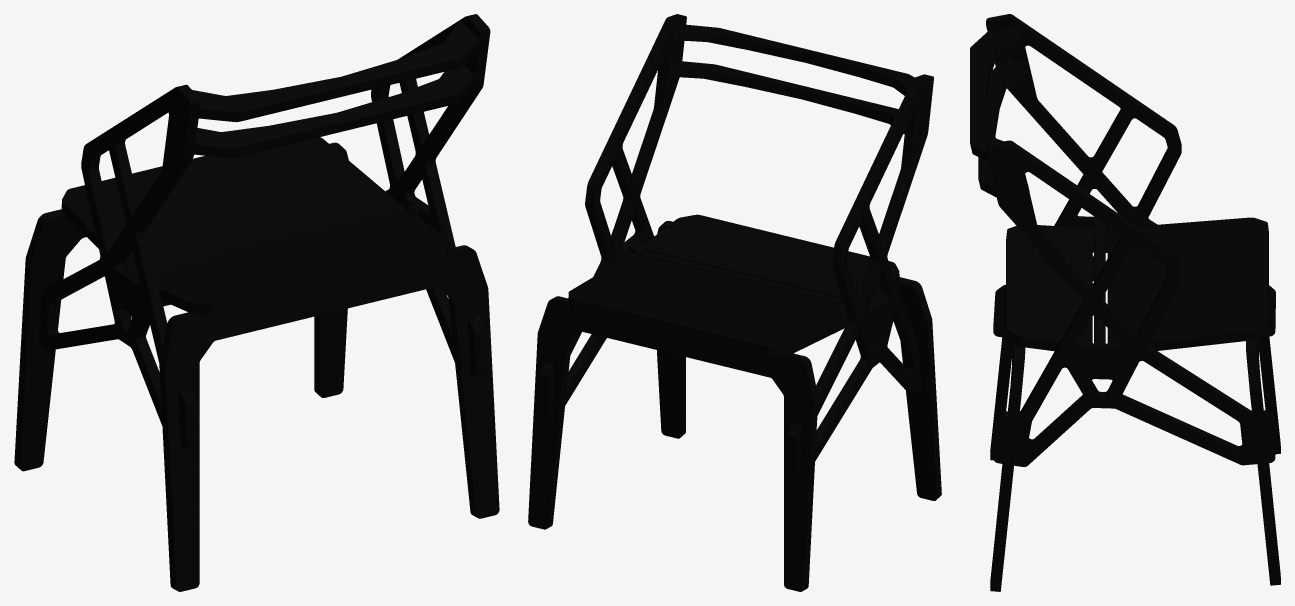
3 views of the same model, side by side, from view 1: azimuth 30°, elevation 25°; view 2: azimuth 150°, elevation 25°; view 3: azimuth 270°, elevation 25° (orthographic). The views are drawn at different scales.
Parts seen in each view (by area): view 1: node_id3; view 2: node_id3; view 3: node_id3.
Part boxes in pixels (x1,y1,x2,y2): node_id3: (14, 14, 499, 591); node_id3: (528, 14, 941, 591); node_id3: (970, 14, 1280, 591).
Size of the model in its own units: 0.3494 by 0.512 by 0.3252.
1 material, 1 textured.
